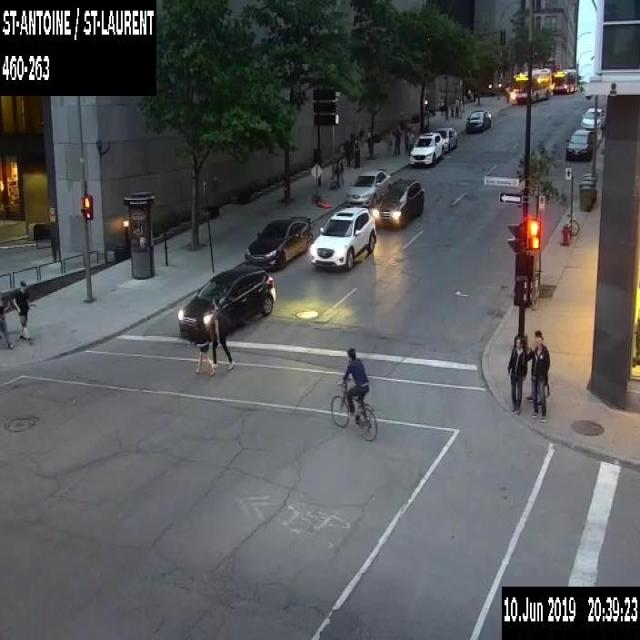bus: (512, 67, 551, 101), (552, 67, 576, 93)
construction: (310, 161, 322, 202), (311, 192, 332, 207)
cyclist: (329, 344, 379, 440)
pedestrian: (526, 328, 552, 421), (209, 296, 234, 370), (506, 332, 527, 414), (194, 317, 215, 376), (12, 279, 32, 340), (0, 294, 15, 349), (346, 130, 356, 162), (334, 157, 343, 189), (405, 125, 414, 156), (393, 125, 401, 156), (385, 128, 393, 158), (366, 128, 372, 151), (358, 125, 364, 148), (449, 101, 453, 116), (454, 103, 458, 117), (474, 90, 477, 102)
vehicle: (178, 264, 276, 334), (310, 206, 376, 266), (245, 215, 313, 268), (374, 177, 424, 227), (347, 167, 391, 207), (409, 130, 443, 165), (565, 128, 594, 159), (463, 106, 491, 134), (434, 125, 457, 152), (579, 106, 604, 128)
